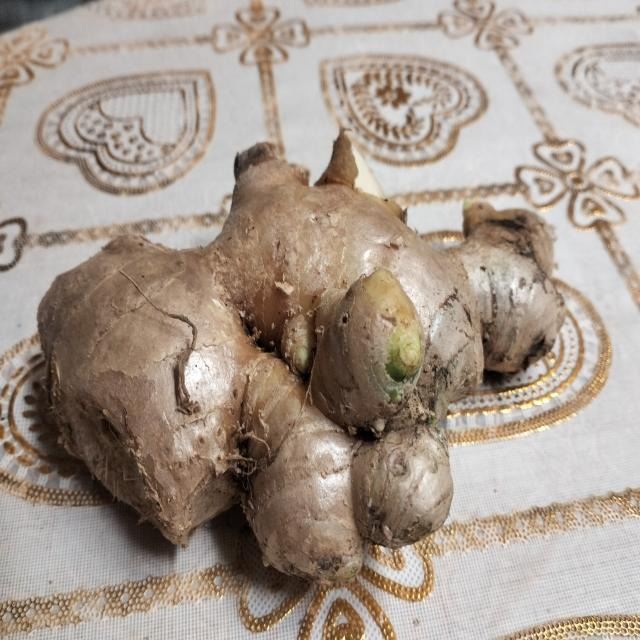ginger: (18, 117, 570, 586)
